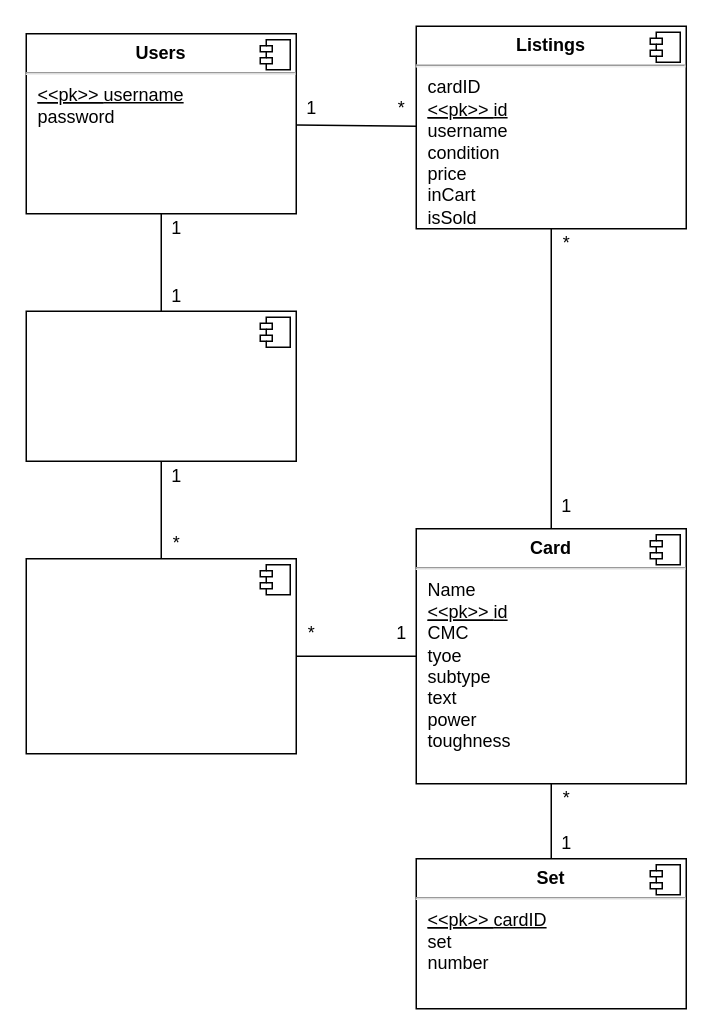
This 713x1035 diagram has some shape labels left out. Here are the shapes that lost their labels. From the top down, the centre of each, then its label:
At pixel 160 385: "Cart username <<pk>> id".
At pixel 160 655: "CartItems <<pk>> cartID cardID quantity listingID".
